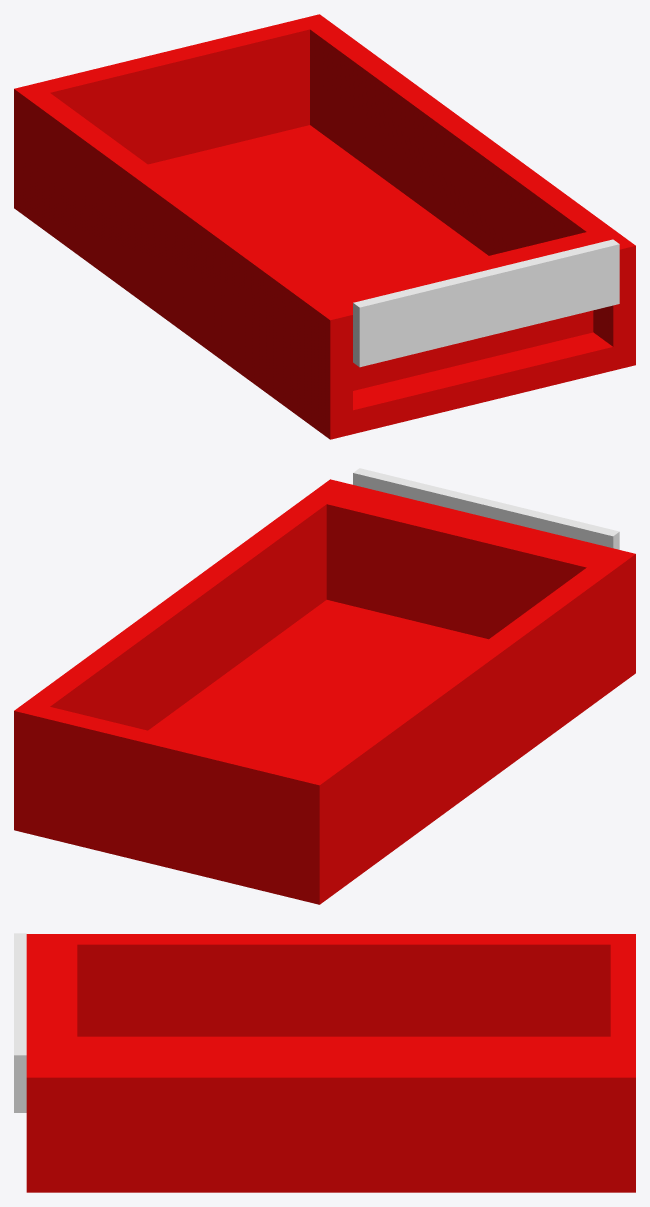
The model's file is tbd5.glb.
The picture shows the model from 3 angles, top to bottom: view 1: azimuth 30°, elevation 25°; view 2: azimuth 150°, elevation 25°; view 3: azimuth 270°, elevation 25°; orthographic projection. The views are drawn at different scales.
Visible parts, largest first — view 1: Body66_12_13, Body53_4_11, Body64_10_12; view 2: Body66_12_13, Body53_4_11, Body64_10_12; view 3: Body66_12_13, Body64_10_12, Body53_4_11.
Part boxes in pixels (bbox=[...]): Body66_12_13: bbox=[14, 14, 635, 439]; Body53_4_11: bbox=[353, 271, 489, 367]; Body64_10_12: bbox=[483, 239, 619, 335]; Body66_12_13: bbox=[14, 479, 635, 904]; Body53_4_11: bbox=[483, 500, 619, 549]; Body64_10_12: bbox=[353, 468, 489, 516]; Body66_12_13: bbox=[26, 934, 635, 1192]; Body64_10_12: bbox=[14, 994, 26, 1112]; Body53_4_11: bbox=[14, 933, 26, 994].
Bounding box in the file's own units: 0.1339 × 0.055 × 0.245.
